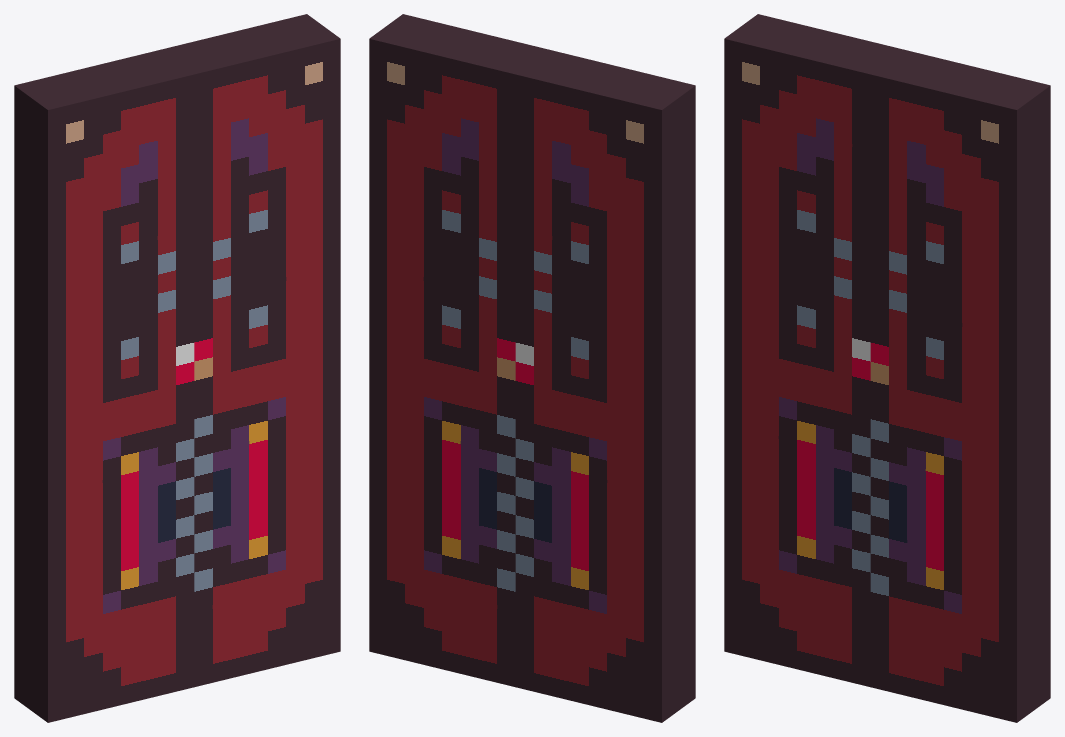
The model's file is door_small.dae.
3 renders of one model, left to right at view 1: azimuth 30°, elevation 25°; view 2: azimuth 150°, elevation 25°; view 3: azimuth 330°, elevation 25°, orthographic.
Parts seen in each view (by area): view 1: doorL-col, doorR-col; view 2: doorL-col, doorR-col; view 3: doorR-col, doorL-col.
Part boxes in pixels (bbox=[...]): doorL-col: bbox=[14, 49, 194, 722]; doorR-col: bbox=[161, 14, 340, 687]; doorL-col: bbox=[515, 49, 695, 722]; doorR-col: bbox=[369, 14, 548, 687]; doorR-col: bbox=[870, 49, 1050, 722]; doorL-col: bbox=[724, 14, 903, 687].
Bounding box in the file's own units: 1 × 0.2 × 2.
Materials: 1 (1 with a texture image).
